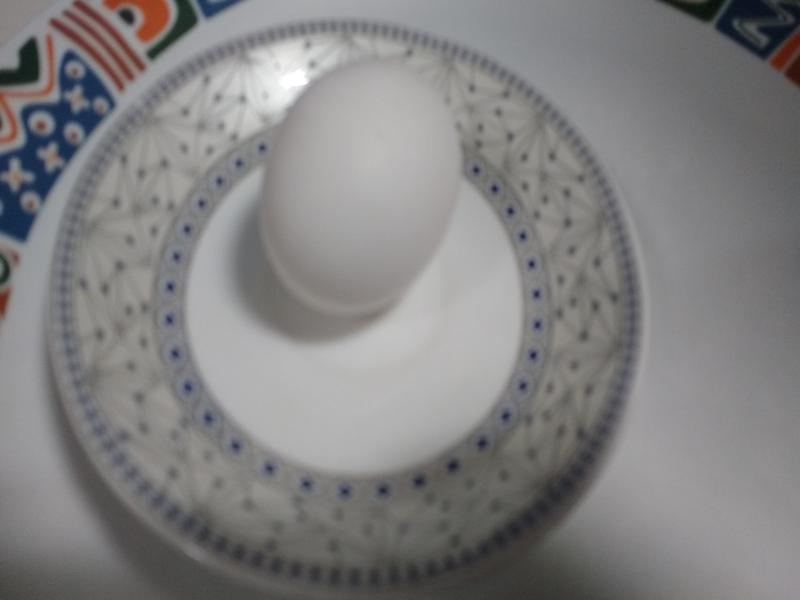egg: (264, 61, 454, 318)
